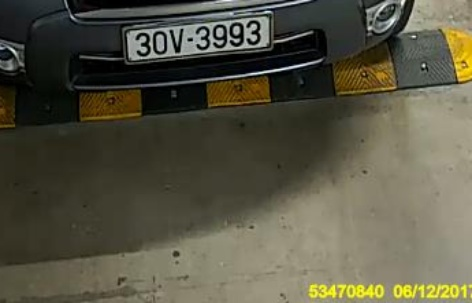plate: (114, 12, 279, 66)
